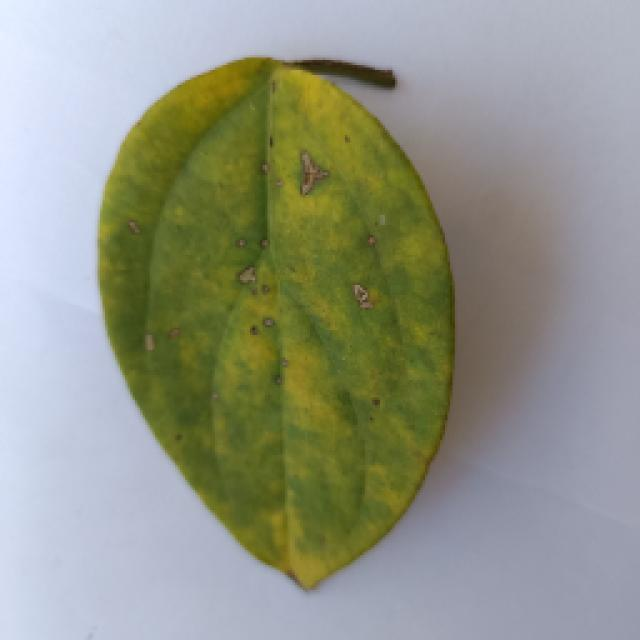slow-decline: (95, 58, 450, 588)
